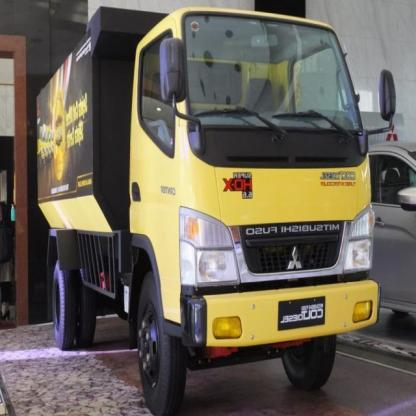truck: (39, 7, 399, 416)
